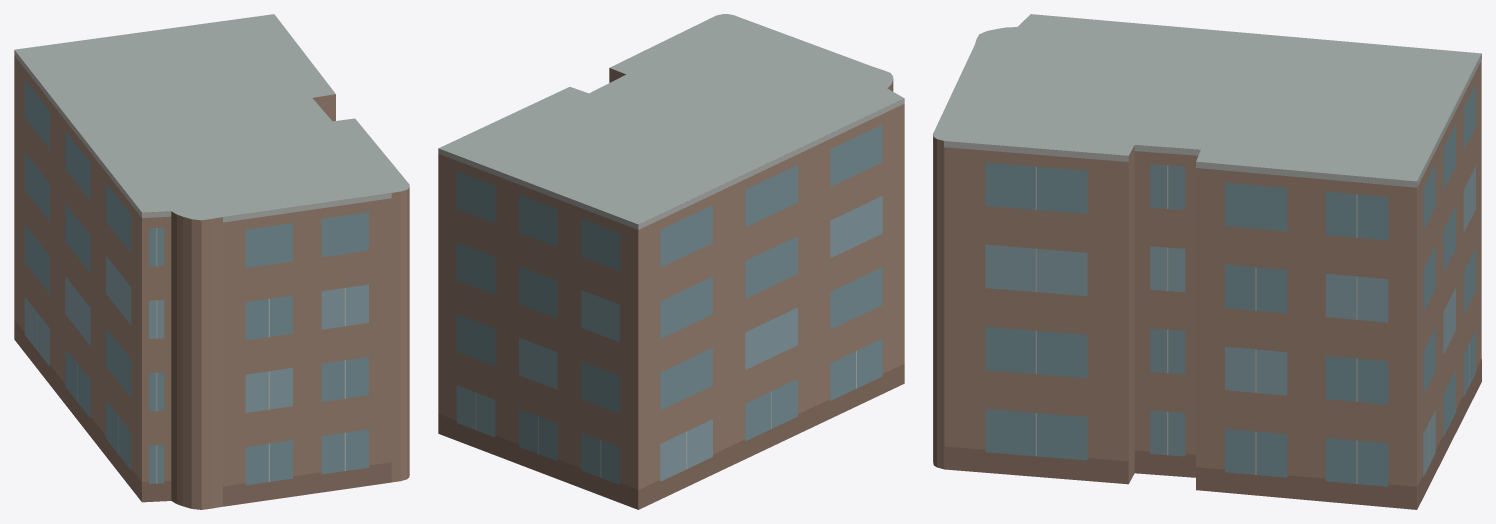
The model's file is survey-upis-33033259.glb.
3 renders of one model, left to right at view 1: azimuth 30°, elevation 25°; view 2: azimuth 150°, elevation 25°; view 3: azimuth 270°, elevation 25°, orthographic. The views are drawn at different scales.
Visible parts, largest first — view 1: survey-upis-33033259.tmp; view 2: survey-upis-33033259.tmp; view 3: survey-upis-33033259.tmp.
Boxes of the visible parts, x1=… form: survey-upis-33033259.tmp: x1=14, y1=14, x2=409, y2=509; survey-upis-33033259.tmp: x1=438, y1=14, x2=904, y2=509; survey-upis-33033259.tmp: x1=933, y1=14, x2=1481, y2=509.
Size of the model in its own units: 14.01 by 12.8 by 19.39.
